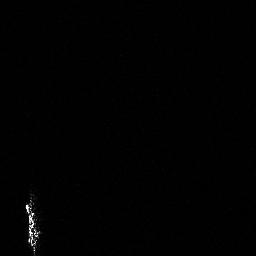ship: (21, 194, 44, 255)
